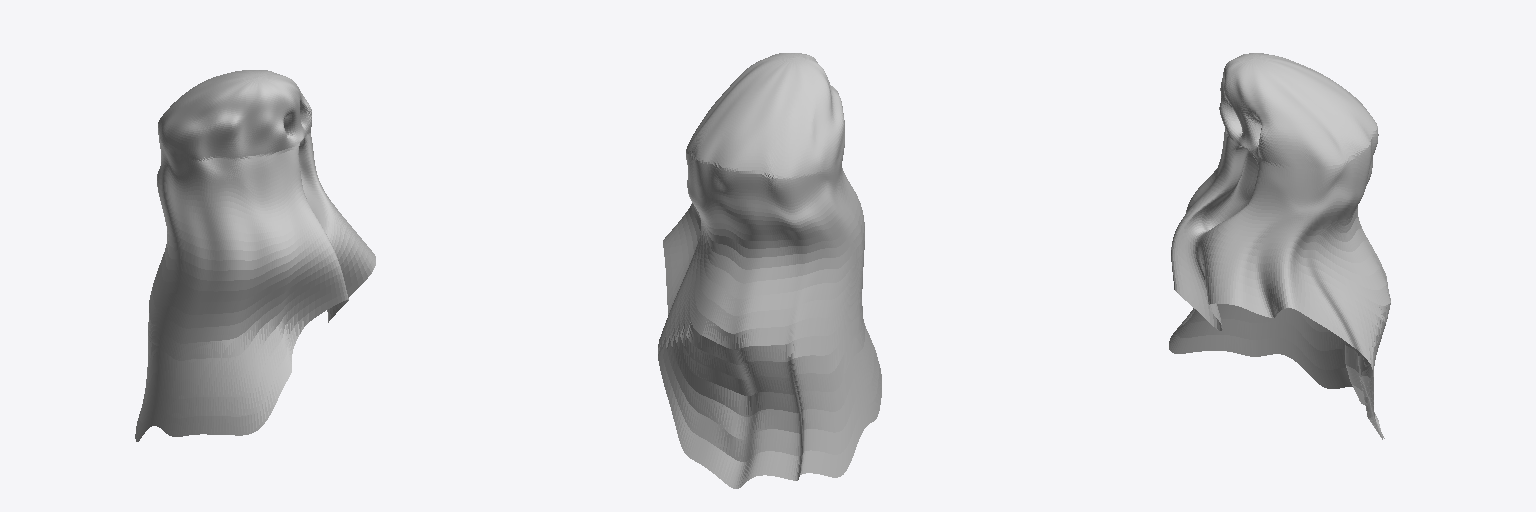
The model's file is ghost5.obj.
3 views of the same model, side by side, from view 1: azimuth 30°, elevation 25°; view 2: azimuth 150°, elevation 25°; view 3: azimuth 270°, elevation 25° (orthographic).
Parts seen in each view (by area): view 1: 球体; view 2: 球体; view 3: 球体.
Boxes of the visible parts, <box> form: 球体: <box>135,70,375,441</box>; 球体: <box>658,53,881,488</box>; 球体: <box>1169,53,1390,439</box>.
Bounding box in the file's own units: 8.62 × 15.89 × 8.38.